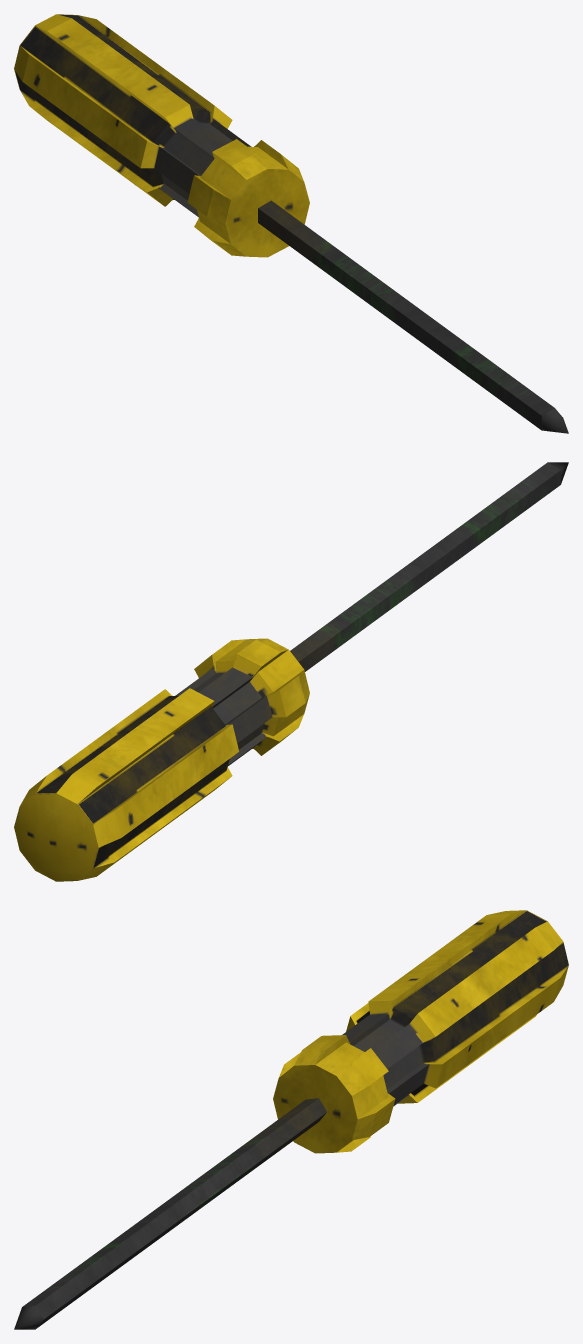
The model's file is SM_Screwdriver.fbx.
3 views of the same model, one above another, from view 1: azimuth 30°, elevation 25°; view 2: azimuth 150°, elevation 25°; view 3: azimuth 330°, elevation 25° (orthographic).
Parts seen in each view (by area): view 1: SM_Screwdriver; view 2: SM_Screwdriver; view 3: SM_Screwdriver.
Boxes of the visible parts, x1=… form: SM_Screwdriver: x1=14, y1=14, x2=568, y2=433; SM_Screwdriver: x1=14, y1=462, x2=568, y2=881; SM_Screwdriver: x1=14, y1=910, x2=568, y2=1329.
Bounding box in the file's own units: 1.07 × 1.07 × 9.76.
Materials: 1 (1 with a texture image).
